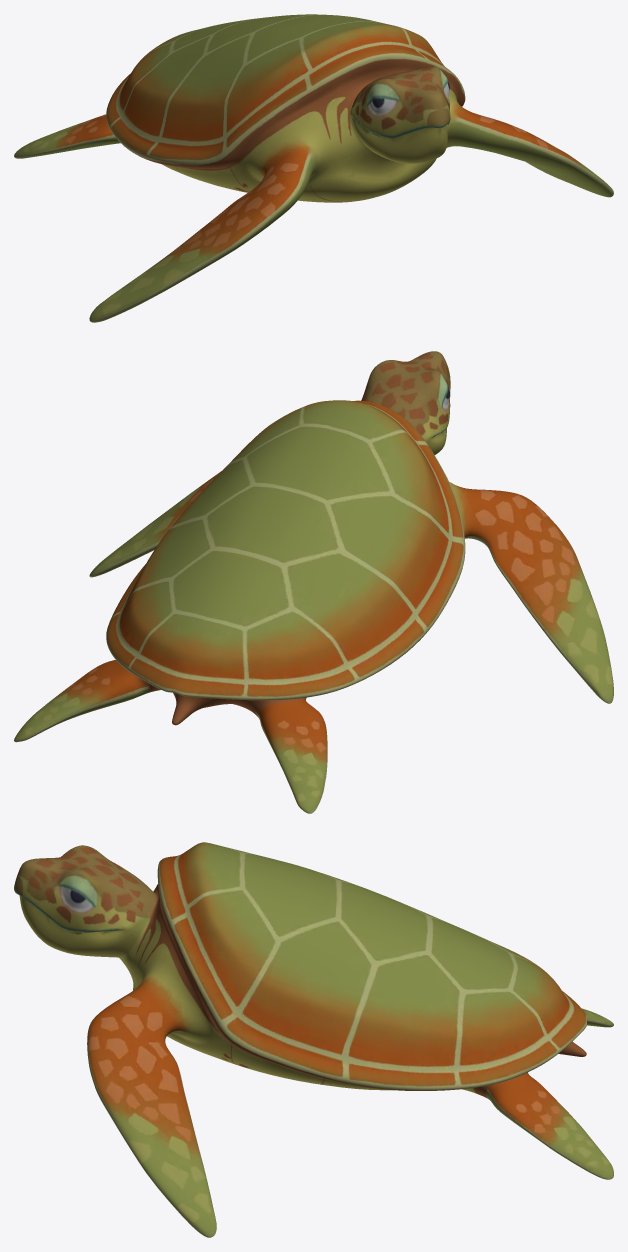
Rendered from sea-turtle.glb.
The picture shows the model from 3 angles, top to bottom: view 1: azimuth 30°, elevation 25°; view 2: azimuth 150°, elevation 25°; view 3: azimuth 270°, elevation 25°; orthographic projection. The views are drawn at different scales.
Parts seen in each view (by area): view 1: sea_turtle.1; view 2: sea_turtle.1; view 3: sea_turtle.1.
Boxes of the visible parts, bbox=[...] form: sea_turtle.1: bbox=[14, 14, 613, 322]; sea_turtle.1: bbox=[14, 351, 613, 813]; sea_turtle.1: bbox=[14, 842, 613, 1237].
Size of the model in its own units: 0.117 by 0.0499 by 0.1093.
1 material, 1 textured.
